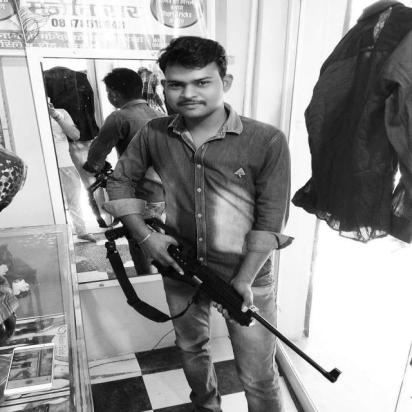Gun: (101, 215, 345, 385)
